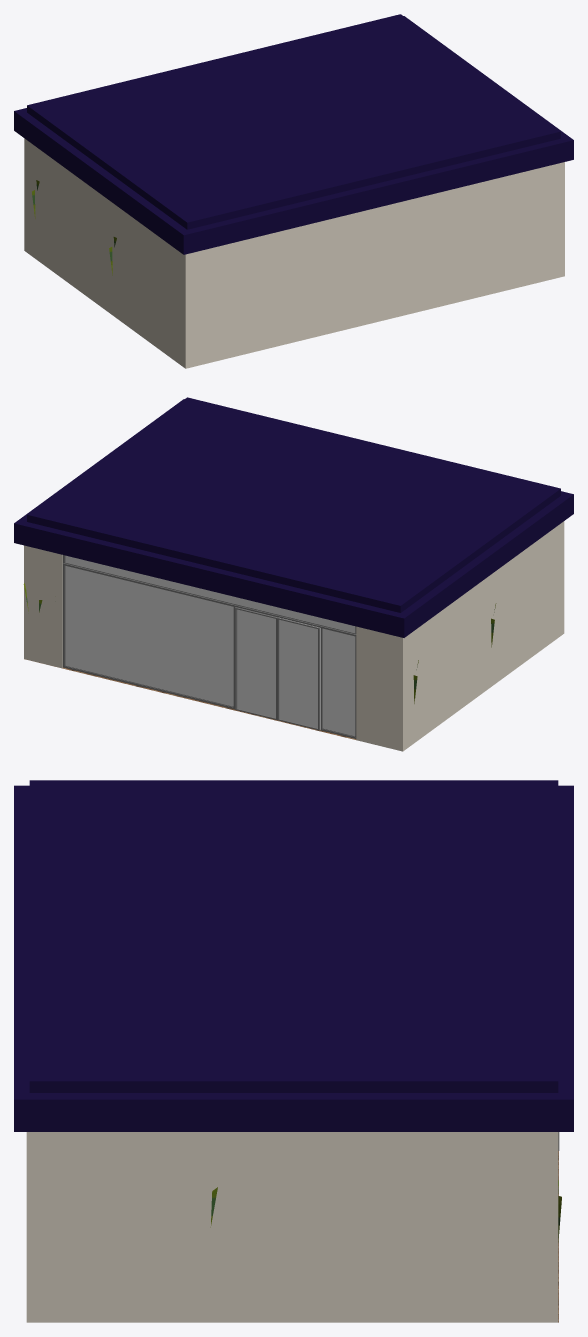
File: Restaurante.fbx
The picture shows the model from 3 angles, top to bottom: view 1: azimuth 30°, elevation 25°; view 2: azimuth 150°, elevation 25°; view 3: azimuth 270°, elevation 25°; orthographic projection. The views are drawn at different scales.
Visible parts, largest first — view 1: Techo, Muros; view 2: Techo, Muros, Window.005, Door.004, Door.005, Window.004, Piso; view 3: Techo, Muros.
Part boxes in pixels (x1,y1,x2,y2): Techo: (14, 14, 573, 254); Muros: (24, 138, 564, 368); Techo: (14, 397, 573, 637); Muros: (24, 521, 564, 751); Window.005: (65, 555, 355, 736); Door.004: (277, 617, 320, 730); Door.005: (235, 607, 277, 719); Window.004: (62, 555, 356, 738); Piso: (24, 659, 356, 739); Techo: (14, 780, 573, 1131); Muros: (26, 1132, 558, 1322).
Bounding box in the file's own units: 1521 × 550 × 1147.
21 materials, 12 textured.
